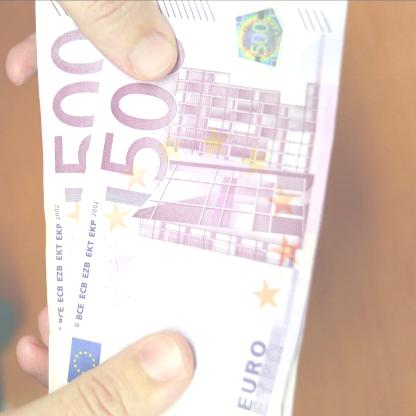euro_banknote: (9, 91, 398, 327)
